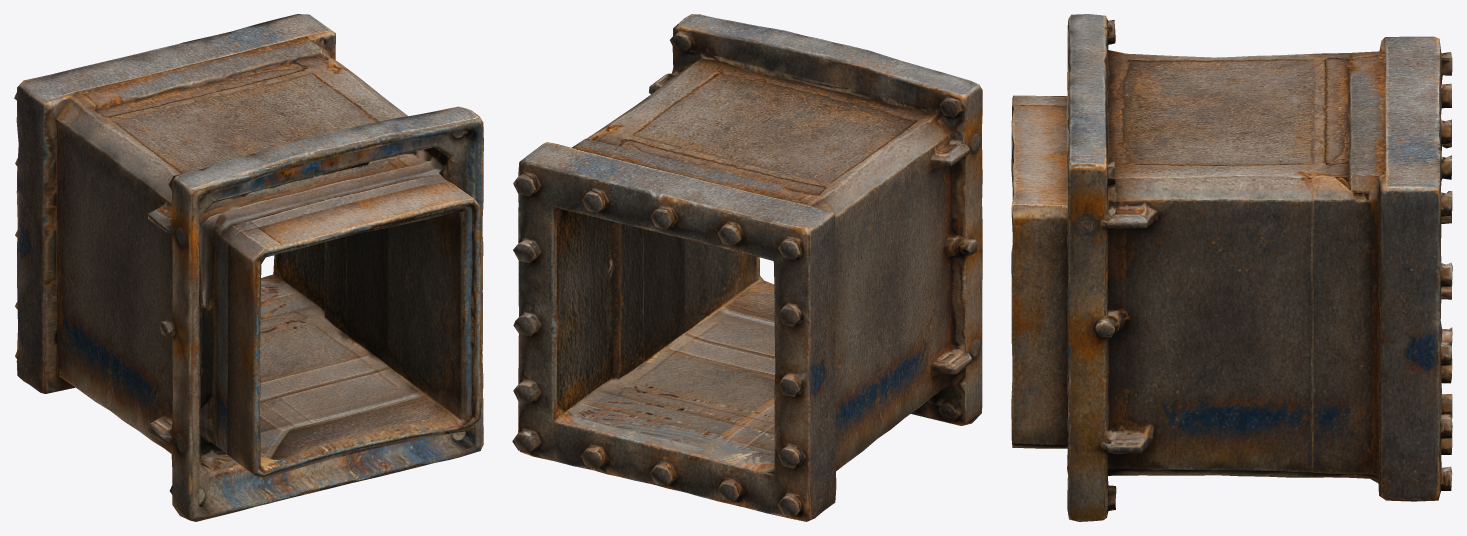
The model's file is BK_VentFrame.fbx.
3 views of the same model, side by side, from view 1: azimuth 30°, elevation 25°; view 2: azimuth 150°, elevation 25°; view 3: azimuth 270°, elevation 25° (orthographic). The views are drawn at different scales.
Parts seen in each view (by area): view 1: texture_mapping; view 2: texture_mapping; view 3: texture_mapping.
Part boxes in pixels (x1=…): texture_mapping: x1=14, y1=14, x2=483, y2=521; texture_mapping: x1=512, y1=14, x2=982, y2=521; texture_mapping: x1=1011, y1=14, x2=1452, y2=521.
Size of the model in its own units: 0.8582 by 0.9878 by 0.9027.
Materials: 1 (1 with a texture image).
